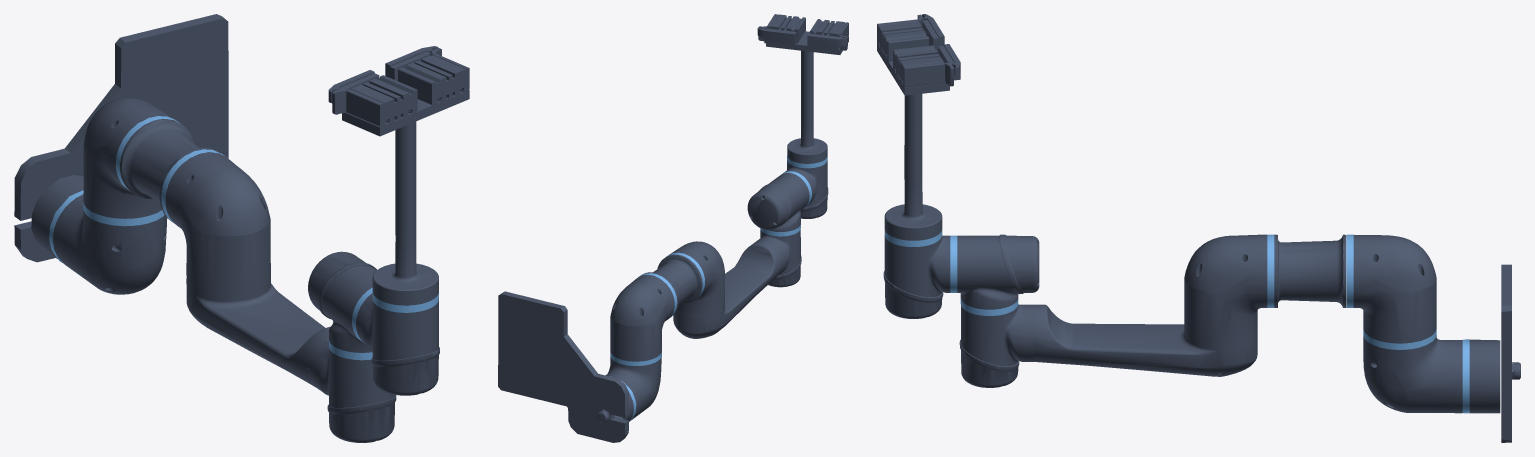
File: 3kg-6axis-model-lansi.glb
3 renders of one model, left to right at view 1: azimuth 30°, elevation 25°; view 2: azimuth 150°, elevation 25°; view 3: azimuth 270°, elevation 25°, orthographic. The views are drawn at different scales.
Visible parts, largest first — view 1: Link2, Base, Link6, Link3, Link1, Link5, Link4; view 2: Base, Link2, Link3, Link6, Link4, Link1, Link5; view 3: Link2, Link3, Link6, Link1, Link4, Link5, Base.
Boxes of the visible parts, <box> form: Link2: <box>83,97,270,294</box>; Base: <box>14,14,228,262</box>; Link6: <box>328,46,469,305</box>; Link3: <box>186,278,396,442</box>; Link1: <box>53,186,167,294</box>; Link5: <box>356,292,439,395</box>; Link4: <box>308,251,412,352</box>; Base: <box>498,291,636,442</box>; Link2: <box>610,241,724,361</box>; Link3: <box>673,224,801,338</box>; Link6: <box>757,14,848,163</box>; Link4: <box>747,171,811,231</box>; Link1: <box>605,351,661,419</box>; Link5: <box>784,156,828,218</box>; Link2: <box>1184,234,1436,343</box>; Link3: <box>959,298,1257,387</box>; Link6: <box>877,14,960,240</box>; Link1: <box>1363,329,1462,413</box>; Link4: <box>950,234,1039,309</box>; Link5: <box>883,229,950,318</box>; Base: <box>1462,264,1520,442</box>.
Size of the model in its own units: 0.323 by 0.566 by 0.8956.
